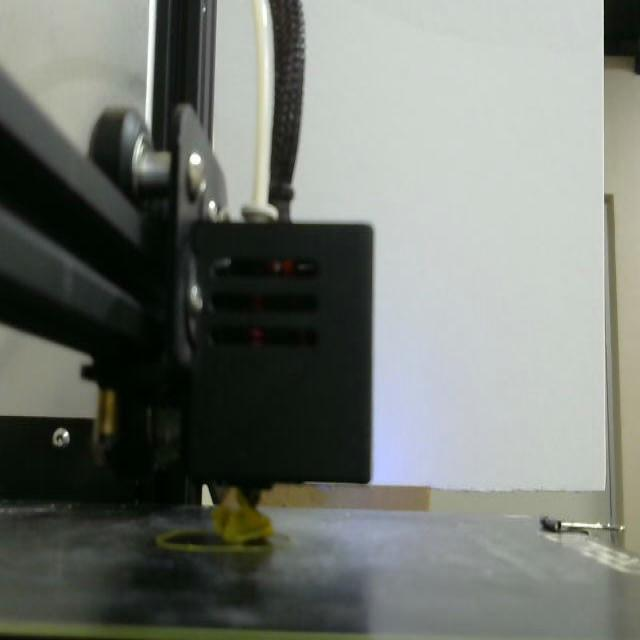spaghetti: (212, 506, 279, 550)
